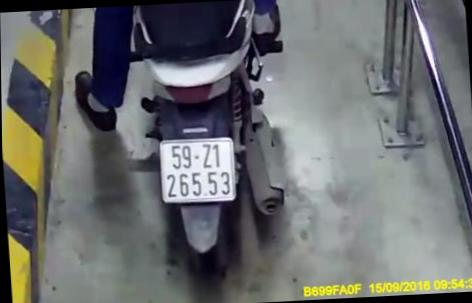LP: (155, 134, 239, 206)
